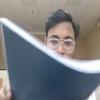notebook: (0, 16, 99, 99)
